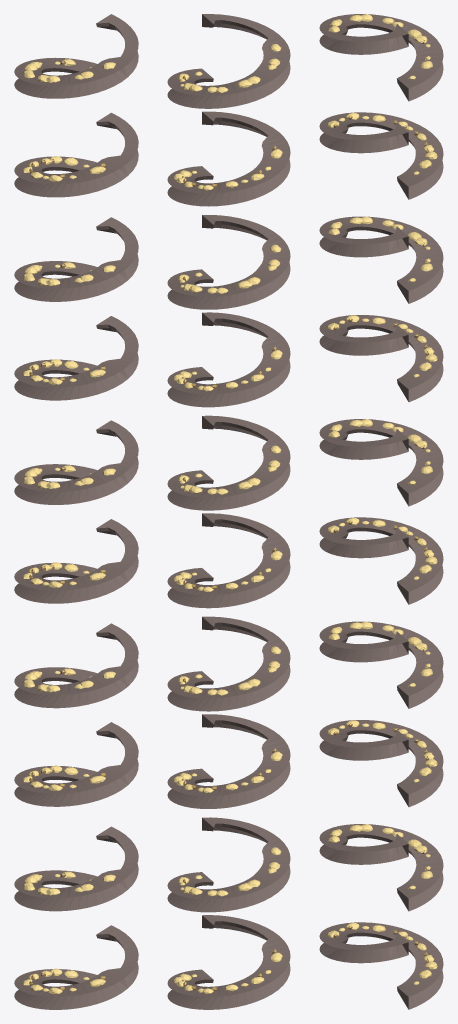
3 renders of one model, left to right at view 1: azimuth 90°, elevation 25°; view 2: azimuth 150°, elevation 25°; view 3: azimuth 330°, elevation 25°, orthographic.
Visible parts, largest first — view 1: Circle4; view 2: Circle4; view 3: Circle4.
Part boxes in pixels (box(x1,y1,x2,y2)): Circle4: box(14, 14, 138, 1009); Circle4: box(167, 14, 290, 1009); Circle4: box(319, 14, 443, 1009).
Size of the model in its own units: 38.86 by 337 by 38.86.
1 material, 1 textured.
